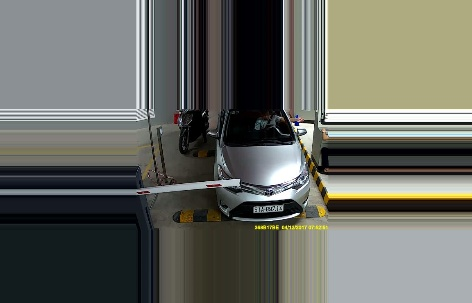plate: (252, 201, 284, 212)
